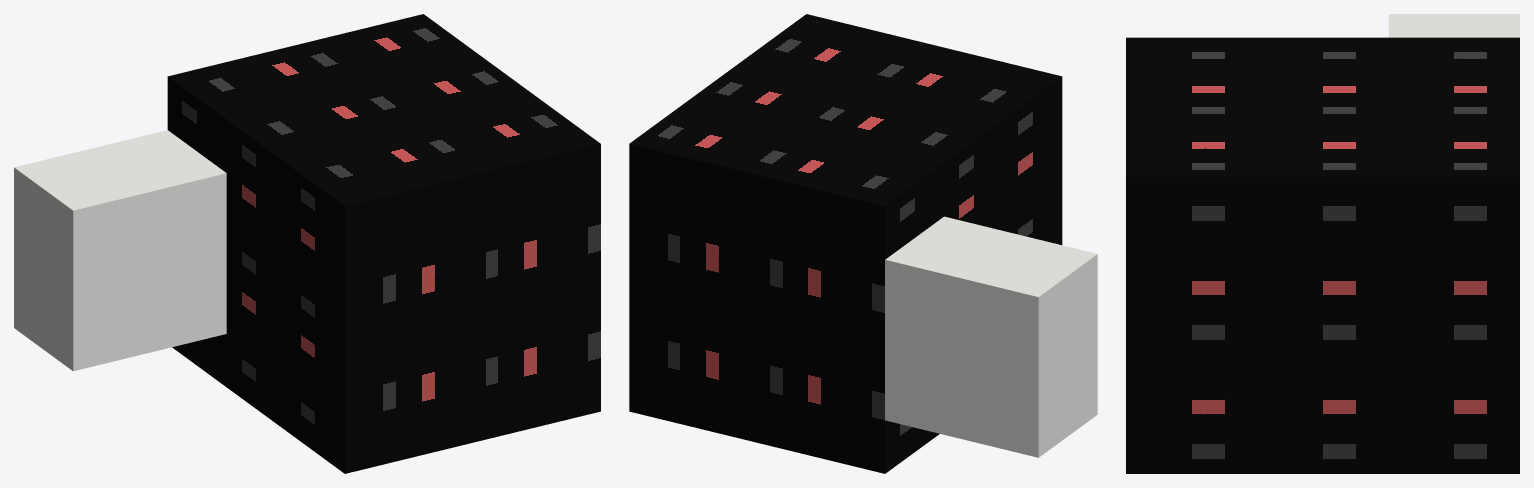
File: output_with_groups.obj
3 views of the same model, side by side, from view 1: azimuth 30°, elevation 25°; view 2: azimuth 150°, elevation 25°; view 3: azimuth 270°, elevation 25° (orthographic). The views are drawn at different scales.
Visible parts, largest first — view 1: Plastic_-_Glossy_(Black), ABS_(White); view 2: Plastic_-_Glossy_(Black), ABS_(White); view 3: Plastic_-_Glossy_(Black), ABS_(White).
Boxes of the visible parts, x1=… form: Plastic_-_Glossy_(Black): x1=167, y1=14, x2=600, y2=473; ABS_(White): x1=14, y1=130, x2=226, y2=371; Plastic_-_Glossy_(Black): x1=629, y1=14, x2=1062, y2=473; ABS_(White): x1=885, y1=216, x2=1097, y2=457; Plastic_-_Glossy_(Black): x1=1126, y1=37, x2=1519, y2=473; ABS_(White): x1=1388, y1=14, x2=1519, y2=37.
Size of the model in its own units: 4 by 2.5 by 3.
2 materials, 1 textured.
